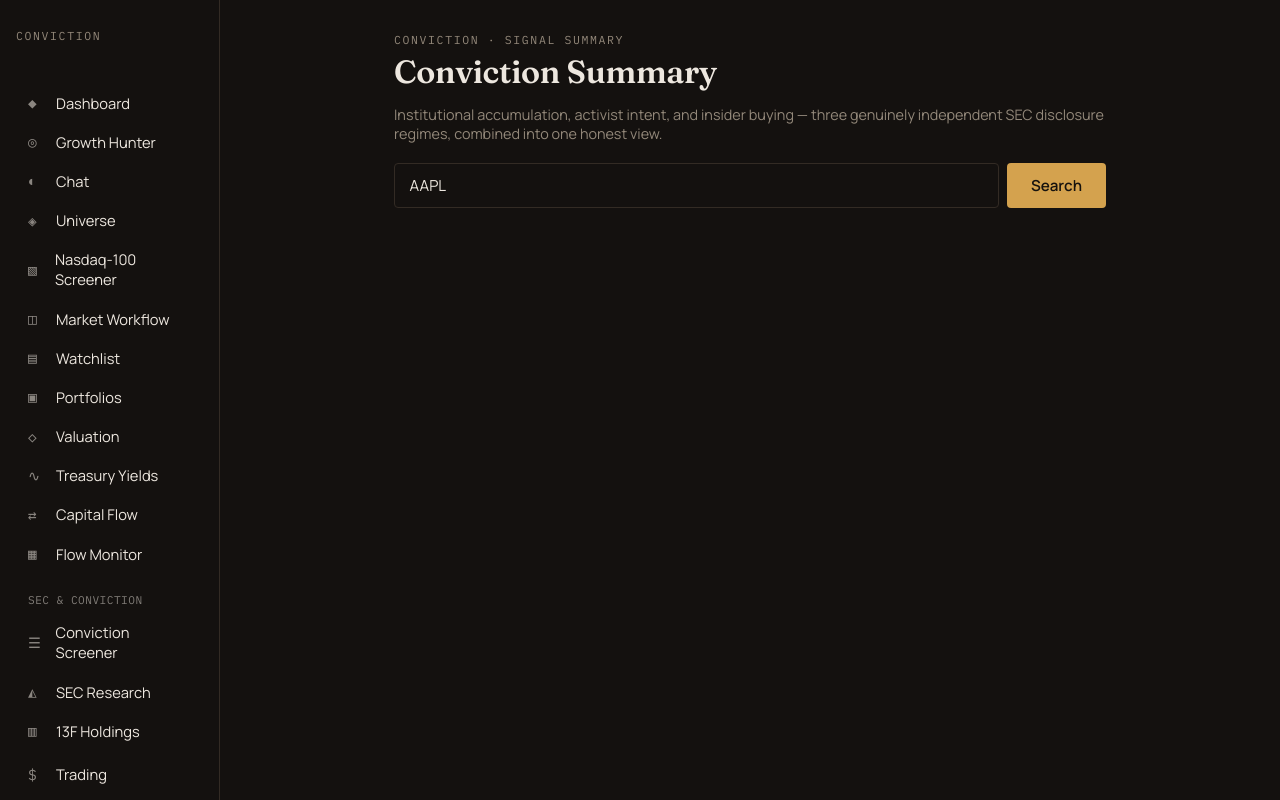
Test: Conviction Summary page › searches and shows the real signal badges
Click the button "Search": (1056,186) [1007,163,1106,208]
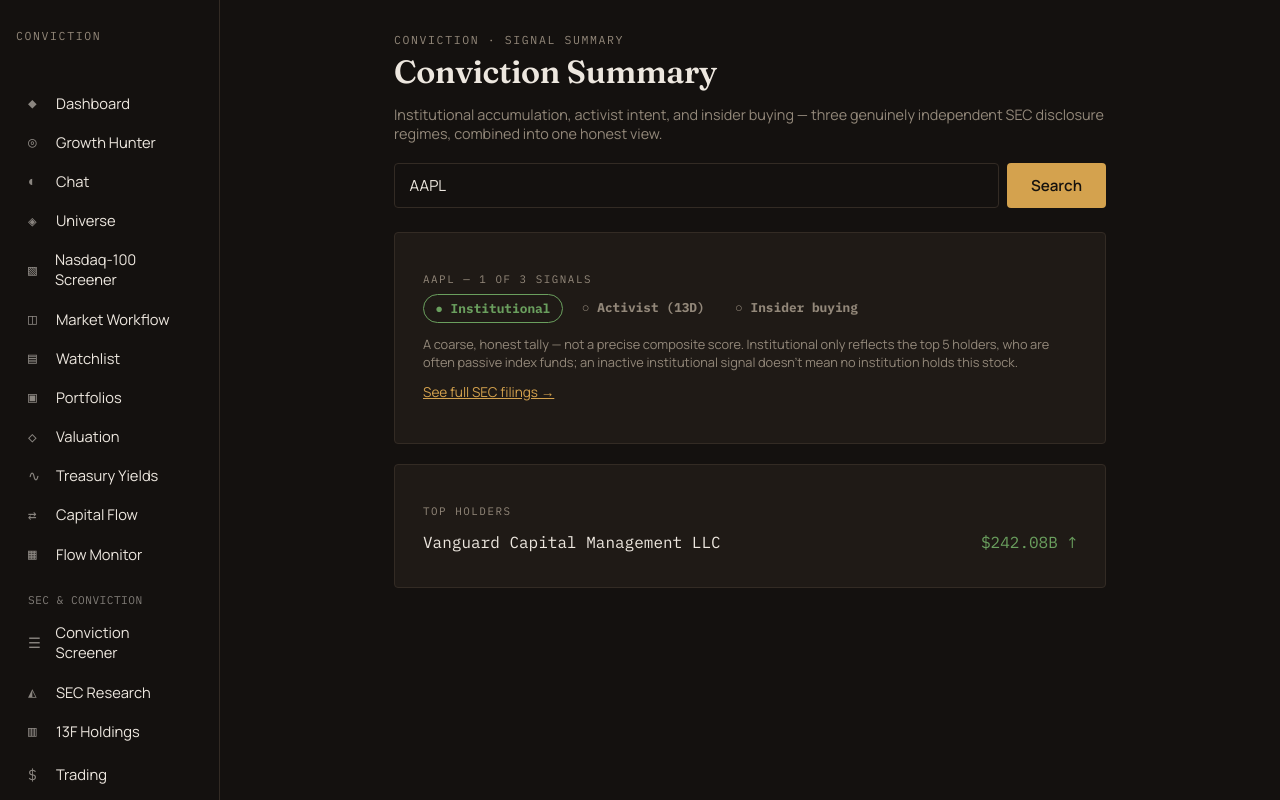
Now the text "AAPL — 1 of 3 signals" is shown, box [423,272,592,286]
Now the text "● Institutional" is shown, box [423,294,563,323]
Now the text "○ Activist (13D)" is shown, box [582,299,705,316]
